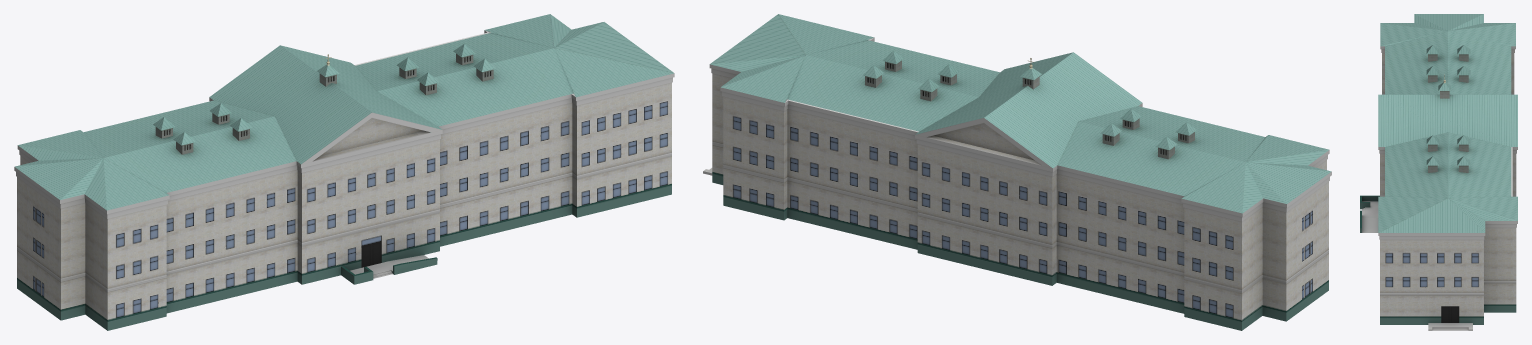
3 renders of one model, left to right at view 1: azimuth 30°, elevation 25°; view 2: azimuth 150°, elevation 25°; view 3: azimuth 270°, elevation 25°, orthographic. The views are drawn at different scales.
Visible parts, largest first — view 1: Untitled; view 2: Untitled; view 3: Untitled.
Boxes of the visible parts, x1,y1,x2,y2 form: Untitled: [14, 14, 674, 330]; Untitled: [703, 14, 1331, 330]; Untitled: [1360, 14, 1517, 330].
Bounding box in the file's own units: 54.86 × 15.78 × 16.3.
Materials: 2 (2 with a texture image).
